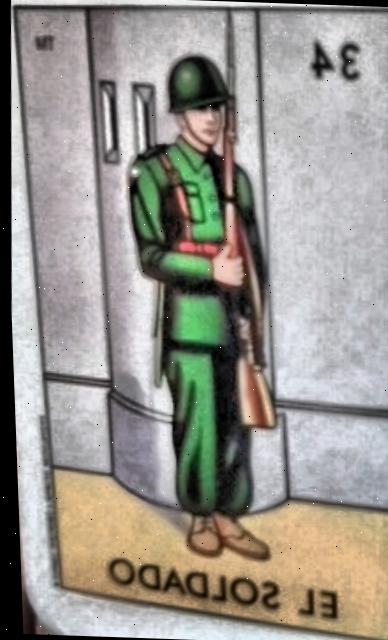El Soldado: (12, 6, 388, 640)
